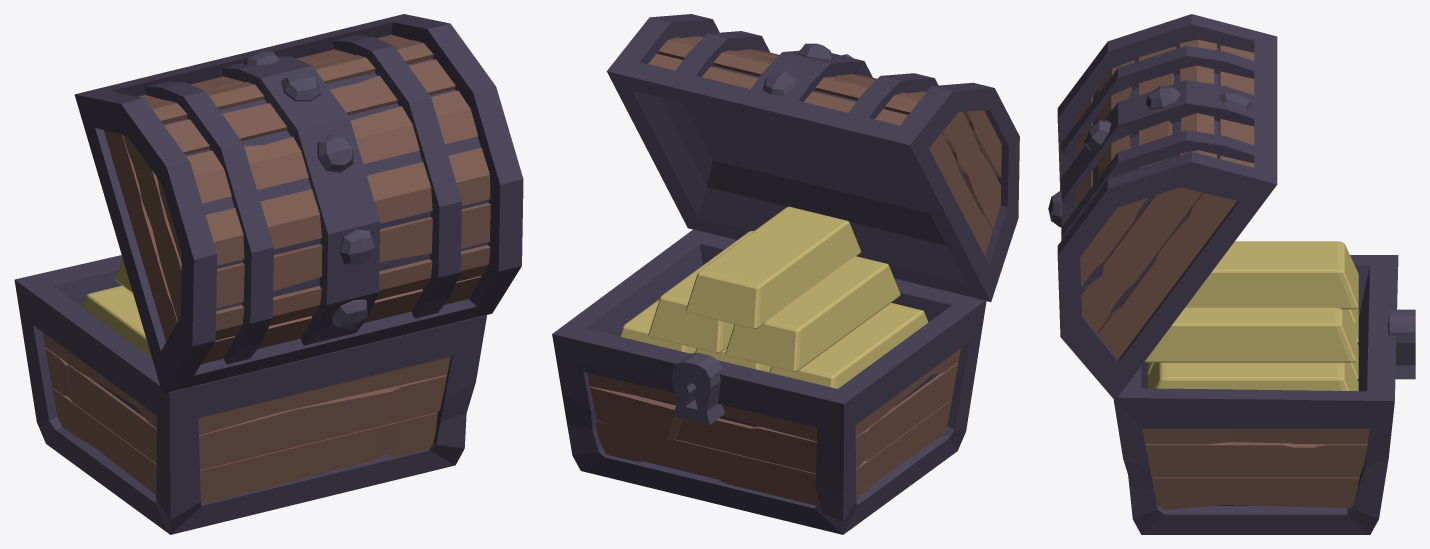
File: SM_Chest_Ingots.fbx
The picture shows the model from 3 angles, left to right: view 1: azimuth 30°, elevation 25°; view 2: azimuth 150°, elevation 25°; view 3: azimuth 270°, elevation 25°; orthographic projection. The views are drawn at different scales.
Parts seen in each view (by area): view 1: SM_Chest_Ingots; view 2: SM_Chest_Ingots; view 3: SM_Chest_Ingots.
Part boxes in pixels (left/top/right/bottom): SM_Chest_Ingots: left=14, top=14, right=523, bottom=534; SM_Chest_Ingots: left=552, top=14, right=1019, bottom=534; SM_Chest_Ingots: left=1048, top=14, right=1415, bottom=534.
Size of the model in its own units: 94.96 by 115 by 99.62.
